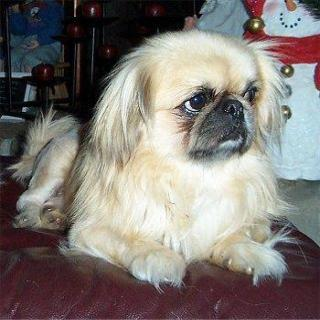dog: (110, 26, 284, 179)
nose: (222, 92, 244, 120)
